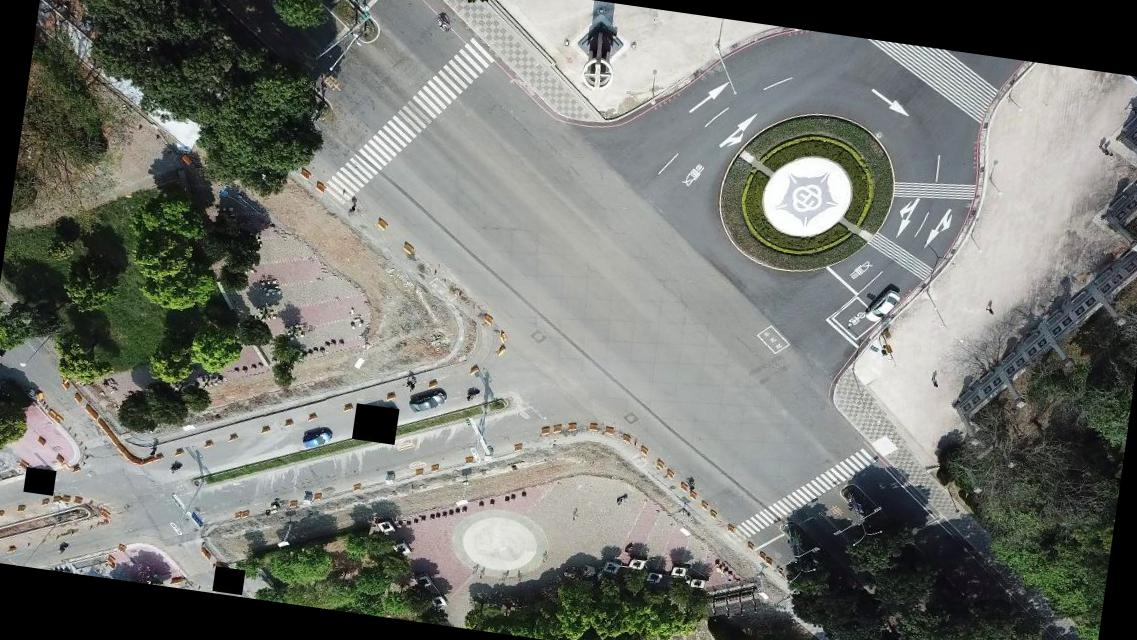vehicle: (862, 286, 900, 326), (408, 386, 447, 418), (300, 426, 332, 452)
